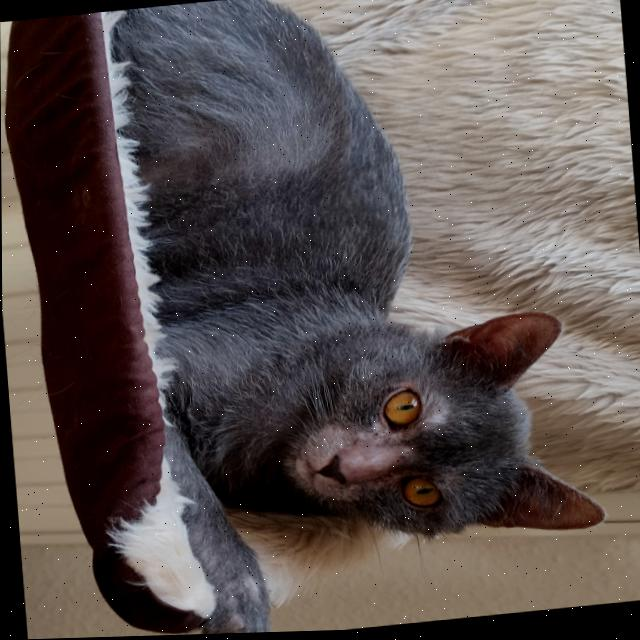Lykoi: (100, 0, 616, 638)
